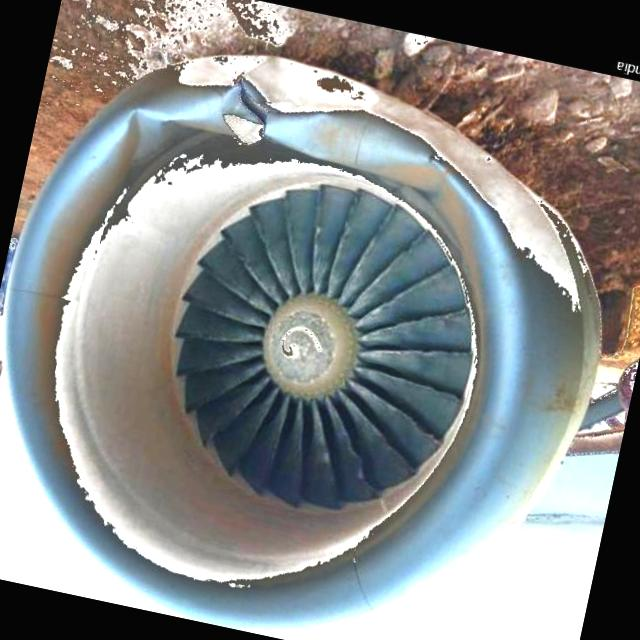dent: (258, 98, 432, 184), (109, 106, 173, 182)
